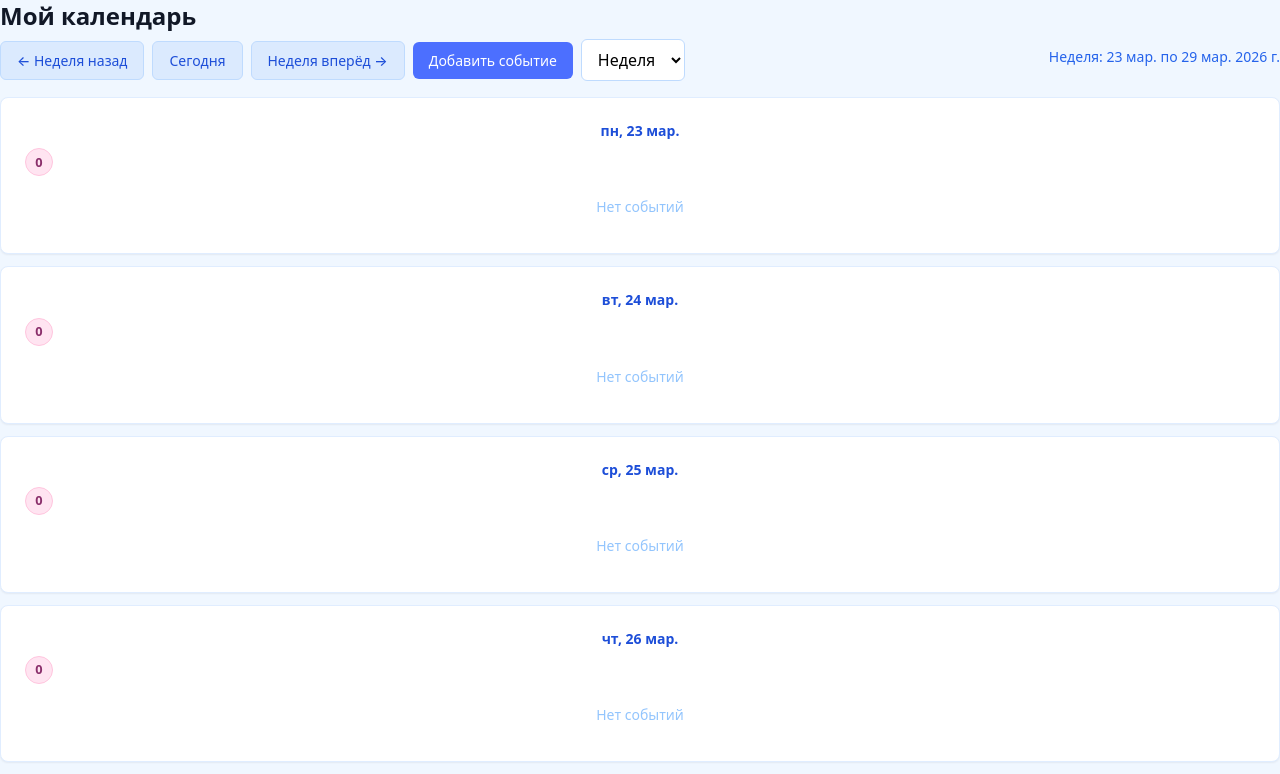
Test case: MyCalendarPage › переключает вид календаря на месяц
Check: the heading "Мой календарь" is shown, box x1=0 y1=0 x2=196 y2=32
Select "Месяц" in the dropdown named "Вид календаря" at (633, 60), box x1=581 y1=39 x2=685 y2=81
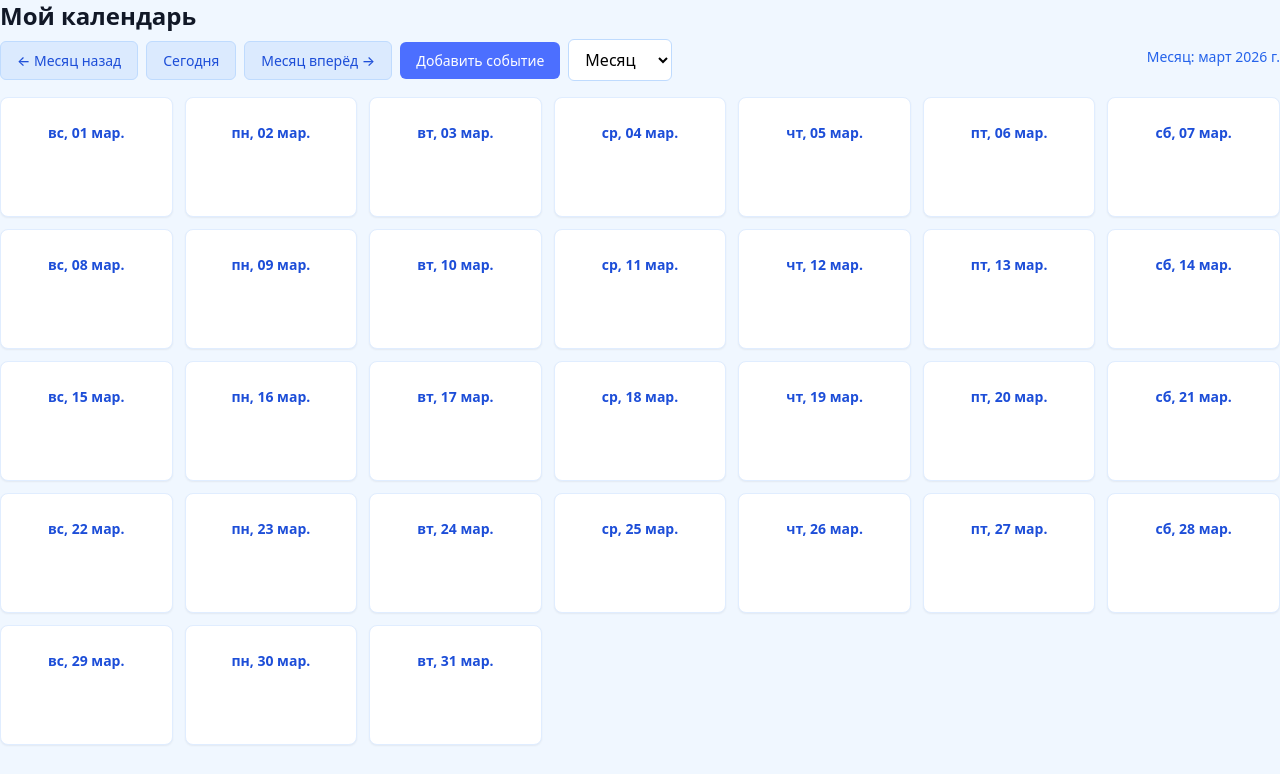
Check: the text "Нет событий" is not shown
Check: the button "← Месяц назад" is shown, box x1=0 y1=41 x2=138 y2=80
Check: the button "Месяц вперёд →" is shown, box x1=244 y1=41 x2=392 y2=80
Click the button with aria-label "Открыть день " at (86, 157), box x1=0 y1=97 x2=173 y2=217
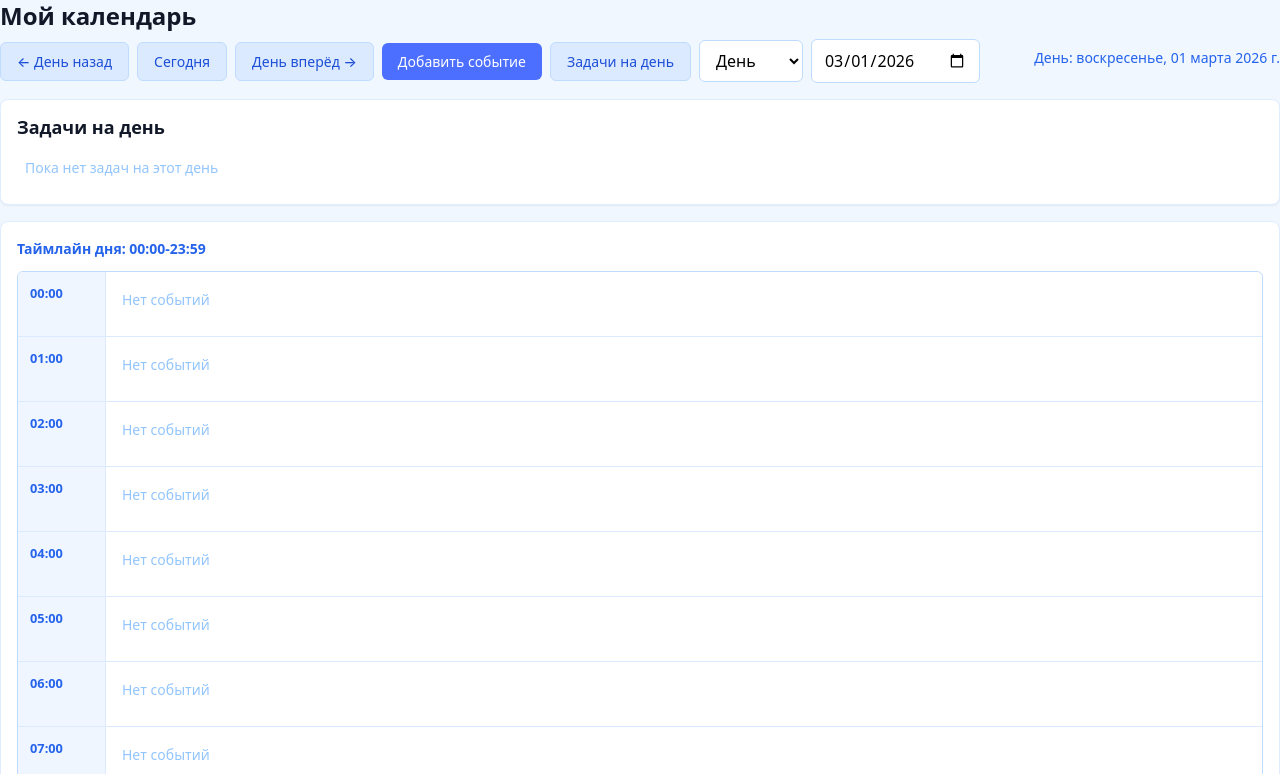
Check: the text "Таймлайн дня: 00:00-23:59" is shown, box x1=17 y1=239 x2=206 y2=258
Check: the button "← День назад" is shown, box x1=0 y1=42 x2=129 y2=81
